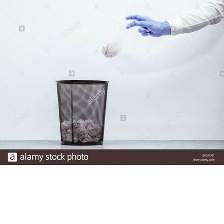book: (58, 115, 103, 142), (98, 38, 122, 62)
